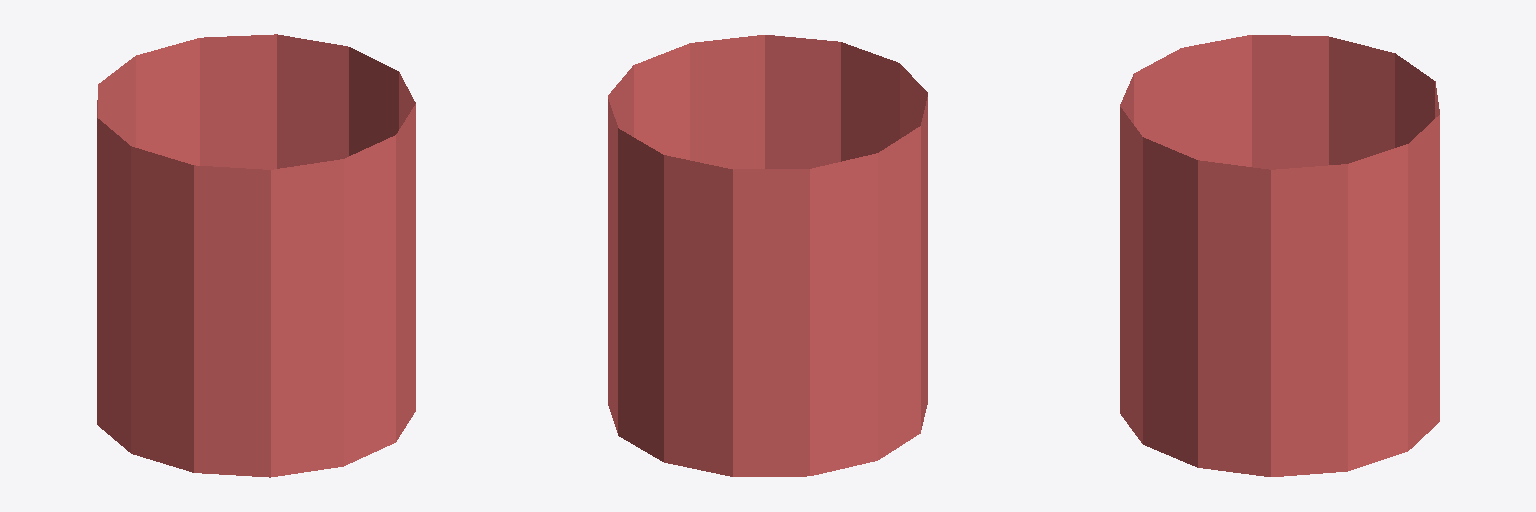
Rendered from solo12_hip_fe_10.obj.
3 renders of one model, left to right at view 1: azimuth 30°, elevation 25°; view 2: azimuth 150°, elevation 25°; view 3: azimuth 270°, elevation 25°, orthographic.
Size of the model in its own units: 0.004 by 0.0042 by 0.004.